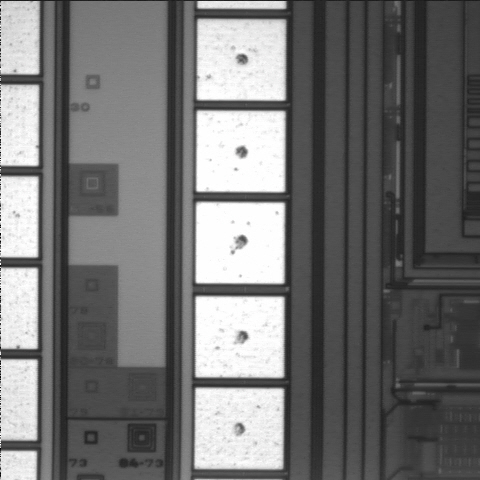pad: (197, 19, 286, 101), (196, 202, 285, 284), (195, 296, 284, 378), (196, 111, 285, 192), (195, 388, 284, 469)
